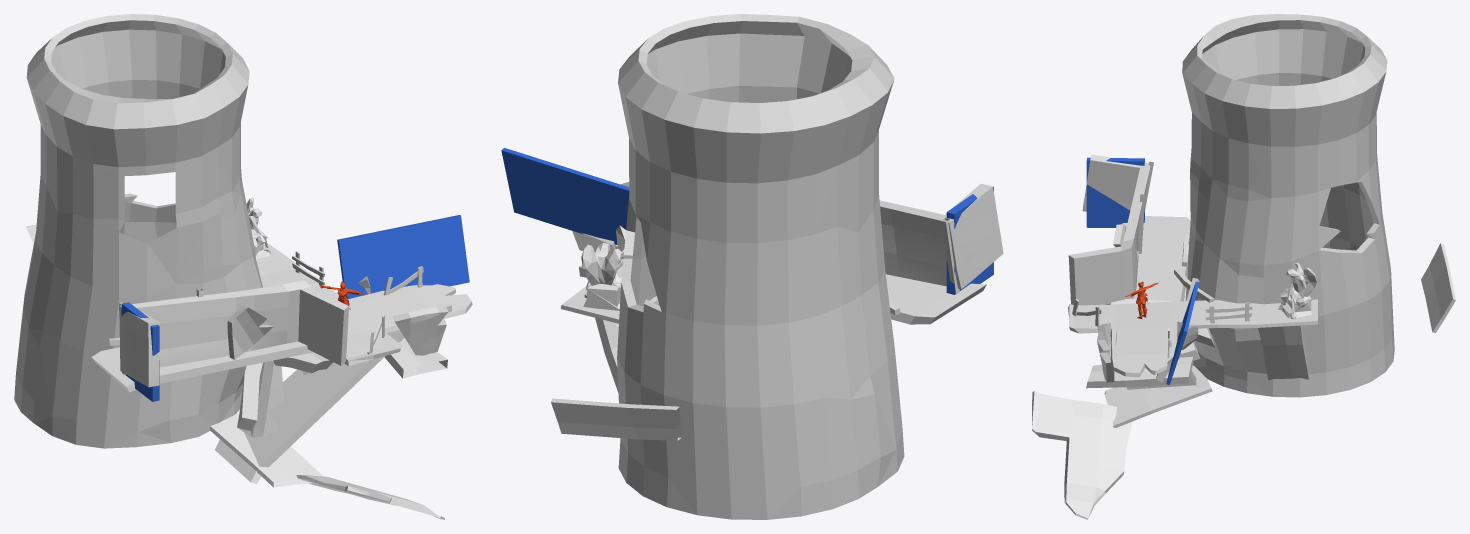
Rendered from wooden_balcony.glb.
3 renders of one model, left to right at view 1: azimuth 30°, elevation 25°; view 2: azimuth 150°, elevation 25°; view 3: azimuth 270°, elevation 25°, orthographic. The views are drawn at different scales.
Parts seen in each view (by area): view 1: Tower middle.001, wooden wall diagonal.003, wooden wall diagonal.002, balcony wall 8 -convcolonly.001, wooden wall diagonal.004, fallen fragment.009, wooden wall diagonal.005, fallen fragment.005, fallen fragment.001, wooden wall diagonal.001, wooden wall diagonal.008, balcony wall 7 -convcolonly.001 (+2 smaller); view 2: Tower middle.001, wooden wall diagonal.003, balcony wall 8 -convcolonly.001, wooden wall diagonal.006, wooden wall diagonal.002, Engel_C.002_Baked.003, wooden wall diagonal.007, balcony wall 7 -convcolonly.001; view 3: Tower middle.001, wooden wall diagonal.002, wooden wall diagonal.001, wooden wall diagonal.003, wooden wall diagonal.005, wooden wall diagonal.007, wooden wall diagonal.006, balcony wall 7 -convcolonly.001, wooden wall diagonal.008, Engel_C.002_Baked.003, fallen fragment.005, balcony wall 8 -convcolonly.001 (+1 smaller).
Part boxes in pixels (left/top/right/bottom): Tower middle.001: left=14, top=14, right=262, bottom=448; wooden wall diagonal.003: left=119, top=280, right=348, bottom=387; wooden wall diagonal.002: left=91, top=243, right=472, bottom=392; balcony wall 8 -convcolonly.001: left=337, top=215, right=469, bottom=299; wooden wall diagonal.004: left=215, top=330, right=404, bottom=483; fallen fragment.009: left=237, top=360, right=284, bottom=437; wooden wall diagonal.005: left=209, top=413, right=323, bottom=487; fallen fragment.005: left=392, top=306, right=448, bottom=355; fallen fragment.001: left=227, top=305, right=272, bottom=359; wooden wall diagonal.001: left=296, top=475, right=444, bottom=519; wooden wall diagonal.008: left=384, top=338, right=447, bottom=378; balcony wall 7 -convcolonly.001: left=121, top=302, right=159, bottom=401; Tower middle.001: left=617, top=14, right=904, bottom=519; wooden wall diagonal.003: left=879, top=183, right=1003, bottom=289; balcony wall 8 -convcolonly.001: left=501, top=147, right=629, bottom=244; wooden wall diagonal.006: left=551, top=398, right=681, bottom=440; wooden wall diagonal.002: left=560, top=259, right=986, bottom=324; Engel_C.002_Baked.003: left=581, top=242, right=621, bottom=311; wooden wall diagonal.007: left=595, top=318, right=618, bottom=393; balcony wall 7 -convcolonly.001: left=946, top=187, right=993, bottom=294; Tower middle.001: left=1182, top=14, right=1394, bottom=397; wooden wall diagonal.002: left=1068, top=216, right=1317, bottom=377; wooden wall diagonal.001: left=1032, top=391, right=1132, bottom=519; wooden wall diagonal.003: left=1068, top=154, right=1150, bottom=305; wooden wall diagonal.005: left=1104, top=365, right=1212, bottom=427; wooden wall diagonal.007: left=1258, top=325, right=1308, bottom=380; wooden wall diagonal.006: left=1421, top=243, right=1455, bottom=332; balcony wall 7 -convcolonly.001: left=1086, top=157, right=1144, bottom=227; wooden wall diagonal.008: left=1086, top=356, right=1193, bottom=388; Engel_C.002_Baked.003: left=1278, top=263, right=1316, bottom=318; fallen fragment.005: left=1097, top=323, right=1114, bottom=382; balcony wall 8 -convcolonly.001: left=1166, top=281, right=1199, bottom=384.
Size of what is drawn, in the model's own units: 16.9 by 18.64 by 18.45.
